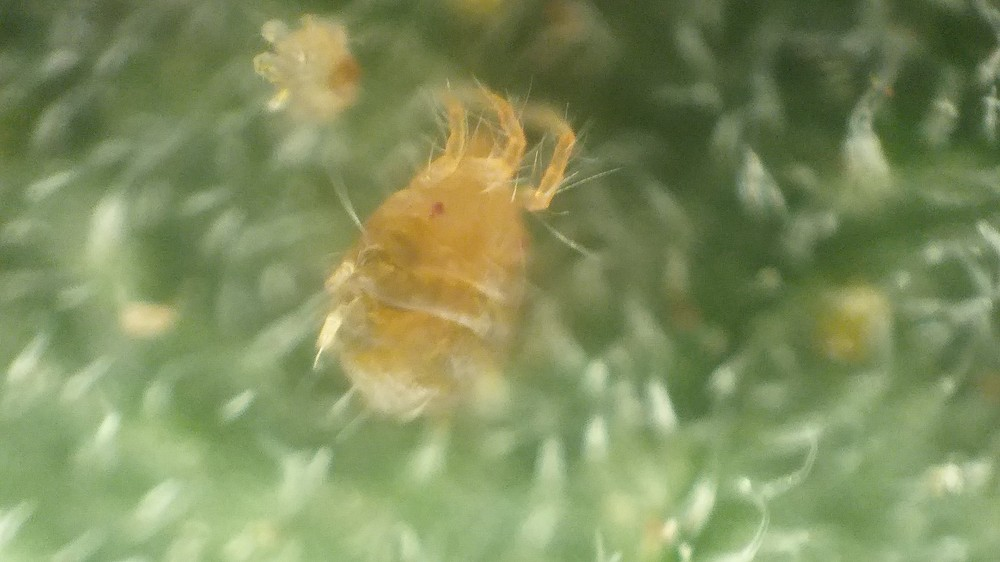Aracnido Rojo: (325, 81, 587, 458), (258, 7, 374, 131)
